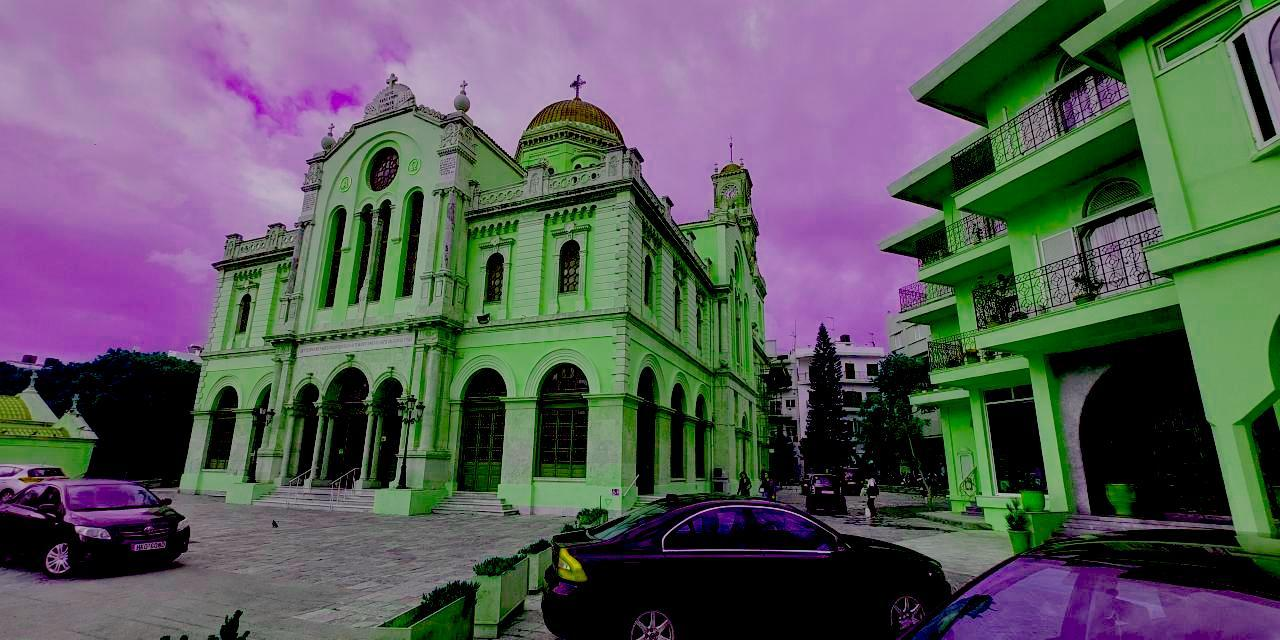Agios Minas: (176, 64, 780, 516)
